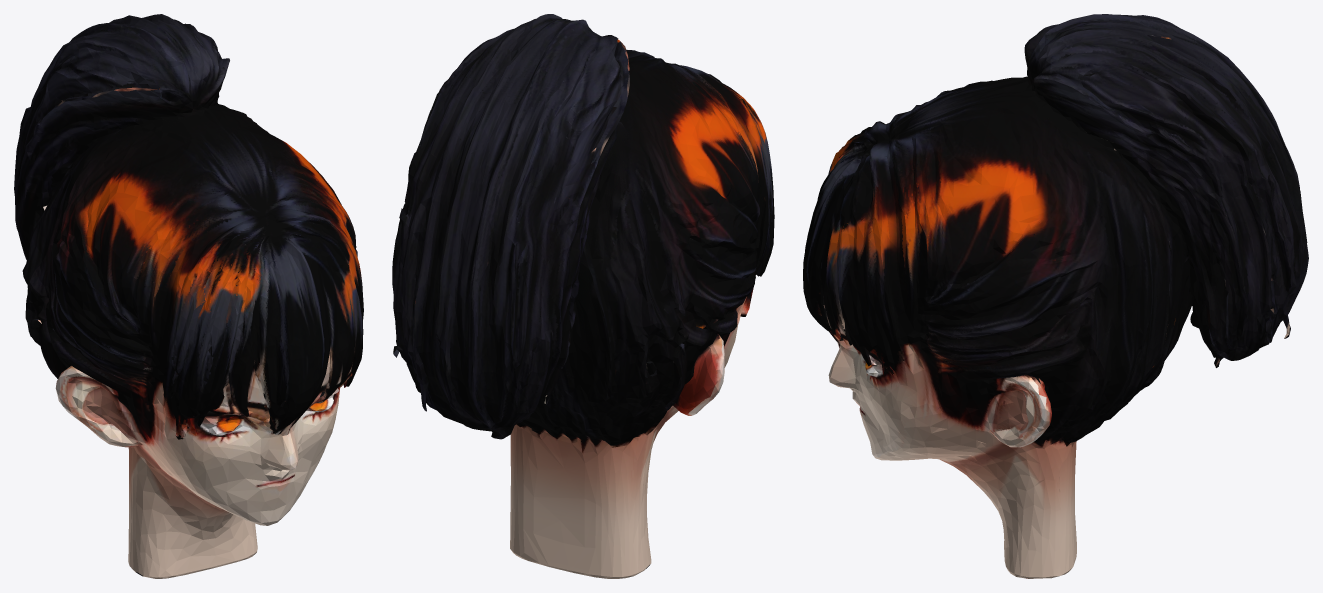
The model's file is side_mieko_repaired_atlas.glb.
3 renders of one model, left to right at view 1: azimuth 30°, elevation 25°; view 2: azimuth 150°, elevation 25°; view 3: azimuth 270°, elevation 25°, orthographic. The views are drawn at different scales.
Parts seen in each view (by area): view 1: temp_mesh.ply; view 2: temp_mesh.ply; view 3: temp_mesh.ply.
Part boxes in pixels (x1=…): temp_mesh.ply: x1=14, y1=14, x2=363, y2=578; temp_mesh.ply: x1=392, y1=14, x2=774, y2=578; temp_mesh.ply: x1=803, y1=14, x2=1308, y2=578.
Bounding box in the file's own units: 0.8541 × 1.52 × 1.32.
1 material, 1 textured.
